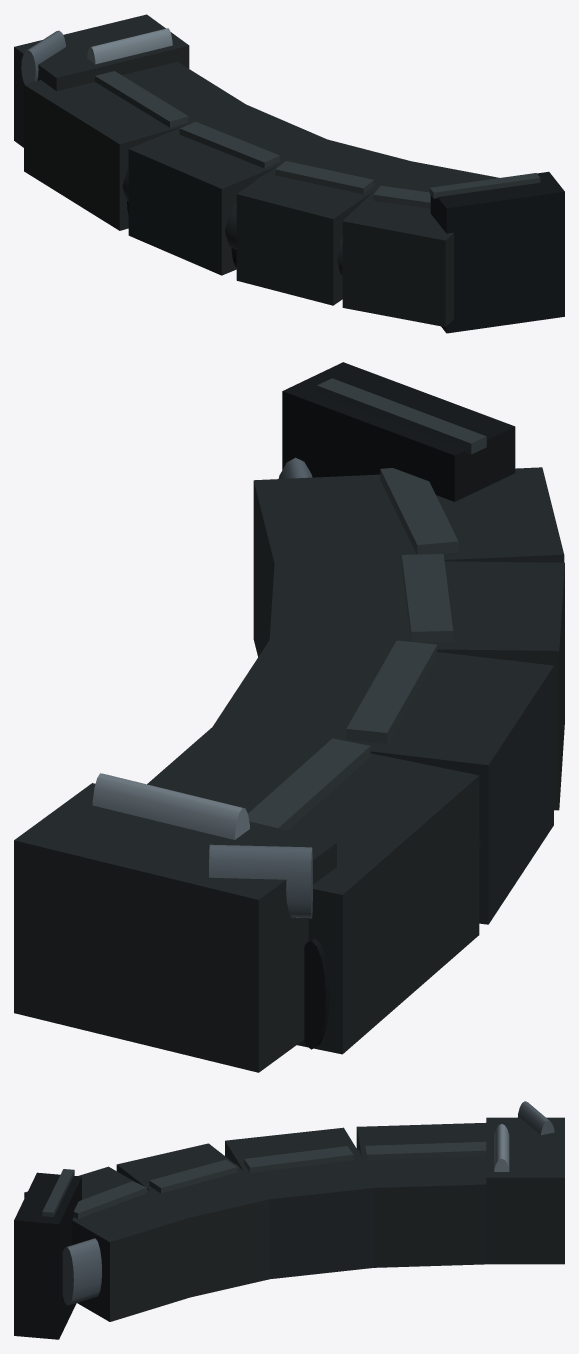
The model's file is CMU3DMp5MagazineCloudEmptyStudy.glb.
3 renders of one model, top to bottom at view 1: azimuth 30°, elevation 25°; view 2: azimuth 150°, elevation 25°; view 3: azimuth 270°, elevation 25°, orthographic. The views are drawn at different scales.
Visible parts, largest first — view 1: curved shell segment 1, reinforced angled baseplate, curved shell segment 2, curved shell segment 3, curved shell segment 4, raised feed collar, stamped central trough 1, stamped central trough 2, stamped central trough 3, right rolled feed lip, baseplate upper seam, left rolled feed lip (+2 smaller); view 2: raised feed collar, curved shell segment 1, curved shell segment 2, curved shell segment 3, curved shell segment 4, reinforced angled baseplate, right rolled feed lip, stamped central trough 2, stamped central trough 1, left rolled feed lip, stamped central trough 4, stamped central trough 3 (+2 smaller); view 3: curved shell segment 1, curved shell segment 2, curved shell segment 4, curved shell segment 3, raised feed collar, reinforced angled baseplate, rounded outer seam 4, stamped central trough 1, stamped central trough 2, stamped central trough 3, stamped central trough 4, right rolled feed lip (+2 smaller).
Boxes of the visible parts, x1,y1,x2,y2 form: curved shell segment 1: (24,61,249,230); reinforced angled baseplate: (430,171,564,333); curved shell segment 2: (128,104,325,275); curved shell segment 3: (236,137,415,305); curved shell segment 4: (342,162,499,326); raised feed collar: (14,14,189,147); stamped central trough 1: (95,71,188,127); stamped central trough 2: (179,121,280,168); stamped central trough 3: (275,161,373,194); right rolled feed lip: (87,28,172,64); baseplate upper seam: (429,173,540,198); left rolled feed lip: (21,30,65,84); raised feed collar: (14,783,336,1072); curved shell segment 1: (147,722,479,1054); curved shell segment 2: (210,640,553,924); curved shell segment 3: (269,559,564,810); curved shell segment 4: (253,467,564,656); reinforced angled baseplate: (282,362,515,501); right rolled feed lip: (92,773,249,839); stamped central trough 2: (346,640,437,743); stamped central trough 1: (248,738,370,830); left rolled feed lip: (209,844,312,918); stamped central trough 4: (380,468,458,554); stamped central trough 3: (401,554,453,642); curved shell segment 1: (356,1123,486,1267); curved shell segment 2: (225,1127,379,1279); curved shell segment 4: (24,1166,193,1321); curved shell segment 3: (116,1143,269,1297); raised feed collar: (486,1117,564,1264); reinforced angled baseplate: (14,1172,81,1339); rounded outer seam 4: (62,1238,101,1305); stamped central trough 1: (365,1141,486,1160); stamped central trough 2: (244,1146,353,1172); stamped central trough 3: (149,1159,237,1193); stamped central trough 4: (73,1181,146,1218); right rolled feed lip: (494,1124,509,1171).
Size of the model in its own units: 0.2426 by 0.108 by 0.4496.
